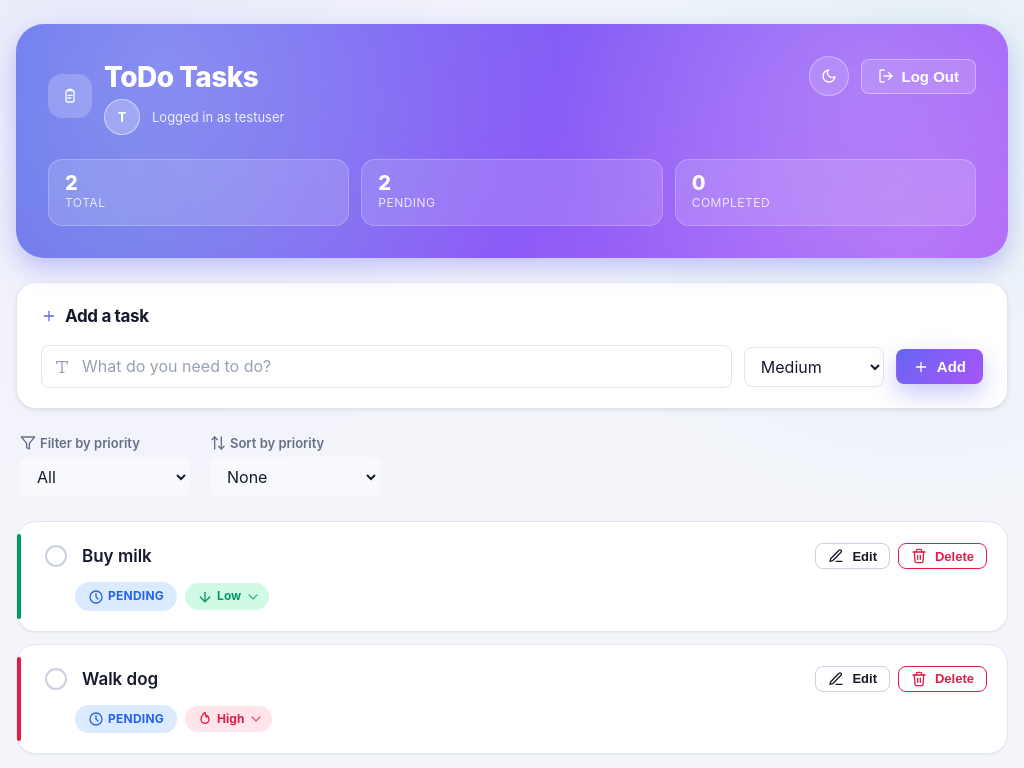
Test: App › filtering by priority hides non-matching tasks and shows the no-match message
Expected: the text "Buy milk" is shown, left=82, top=546, right=152, bottom=566
Select "Medium" in the dropdown labelled "Filter by priority" at x=105, y=477, box left=20, top=457, right=190, bottom=497
(page scrolled)
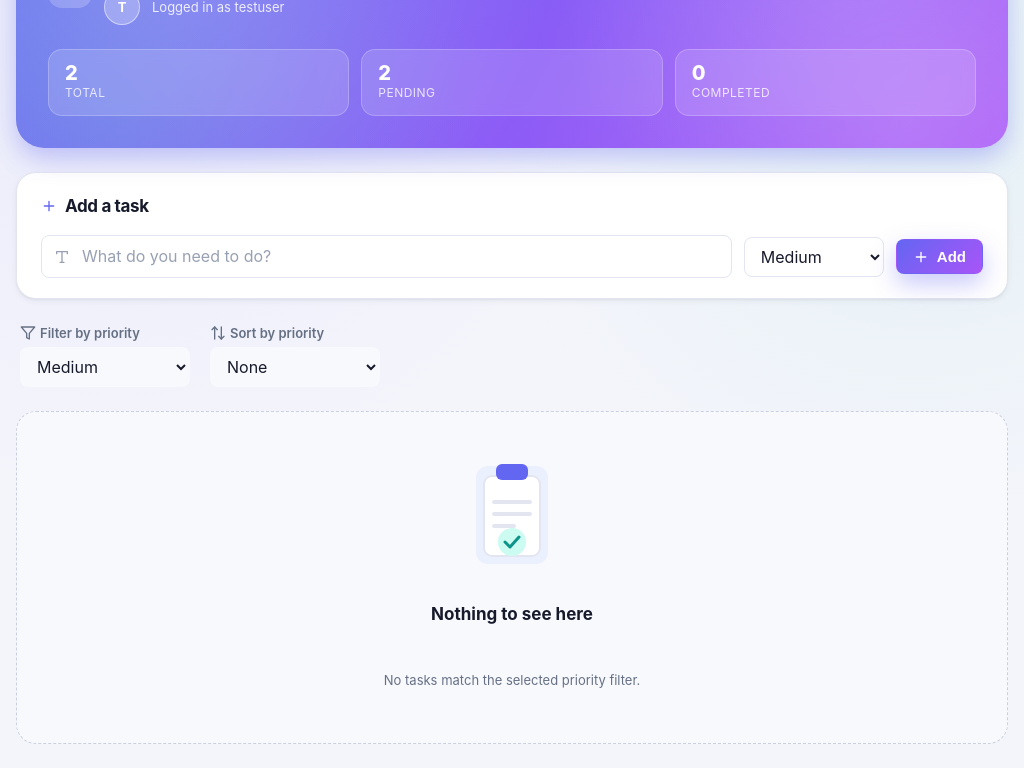
Expected: the text "Buy milk" is gone
Expected: the text "Walk dog" is gone
Expected: the text "No tasks match the selected priority filter." is shown, left=384, top=670, right=640, bottom=690
